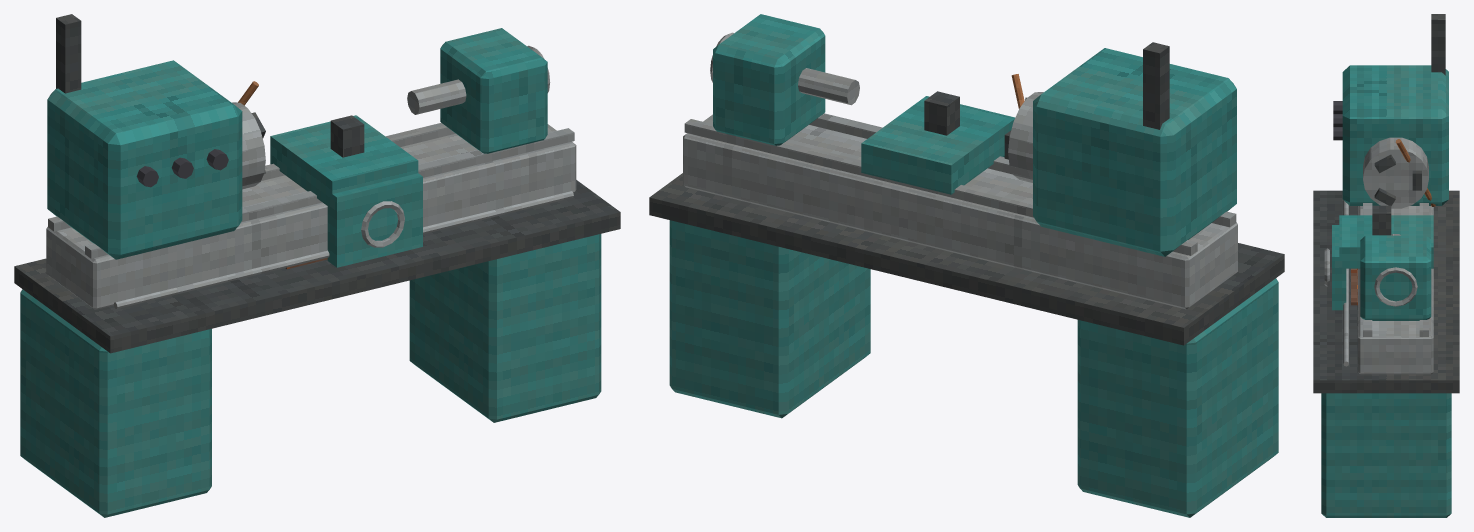
File: lathe.glb
3 views of the same model, side by side, from view 1: azimuth 30°, elevation 25°; view 2: azimuth 150°, elevation 25°; view 3: azimuth 270°, elevation 25° (orthographic). The views are drawn at different scales.
Parts seen in each view (by area): view 1: body; view 2: body; view 3: body.
Part boxes in pixels (<box>): body: <box>14,14,620,517</box>; body: <box>649,14,1284,517</box>; body: <box>1313,14,1459,517</box>.
Size of the model in its own units: 1.91 by 1.55 by 0.62.
Materials: 6 (5 with a texture image).
